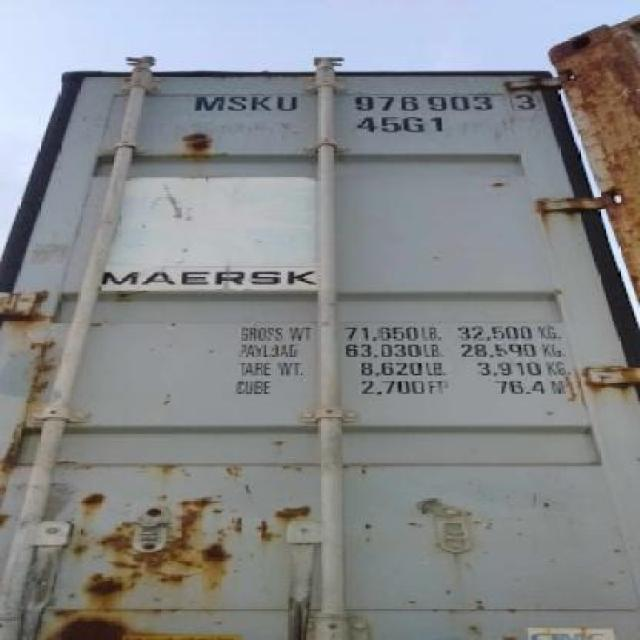ISO: (360, 116, 443, 132)
container_number: (198, 90, 540, 111)
